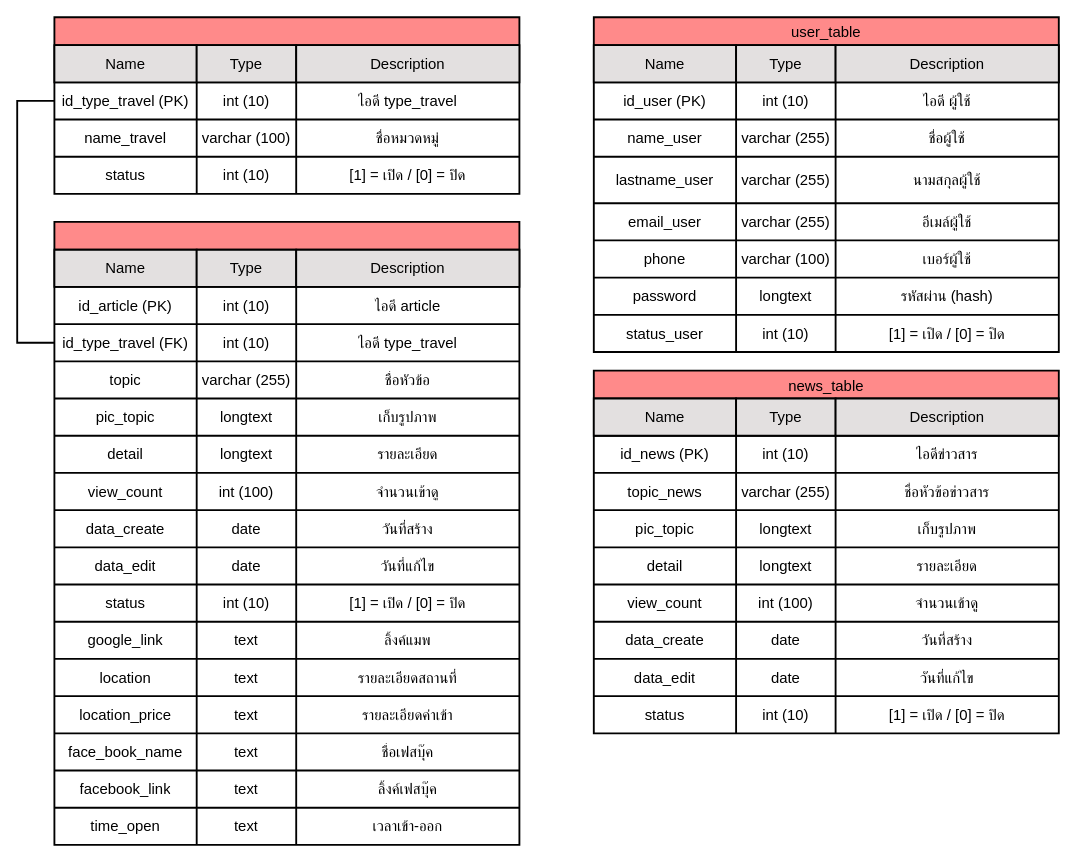
The diagram is 1075 pixels wide and 861 high, and some of its shapes have lost their labels. Here are the shapes that lost their labels. From the top down, the box of each, then its label:
(53, 16, 520, 194): type_travel_table
(53, 220, 520, 845): article_table
